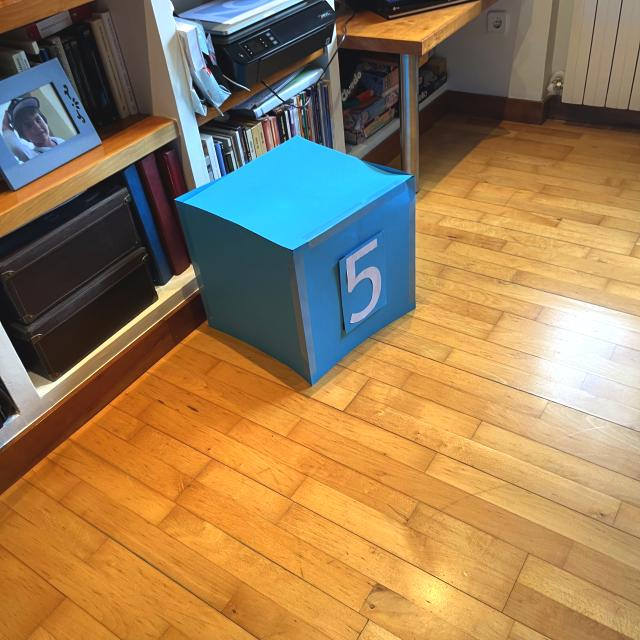box: (172, 133, 420, 387)
